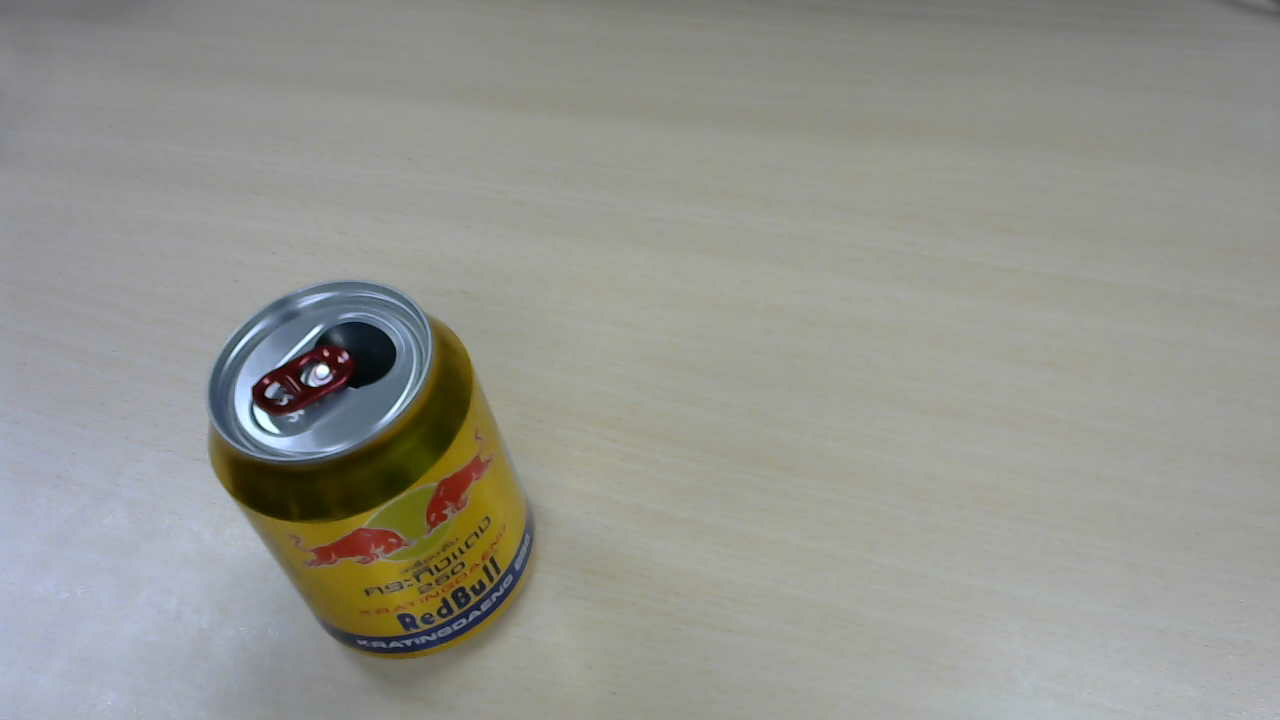Red_Bull: (202, 284, 544, 671)
